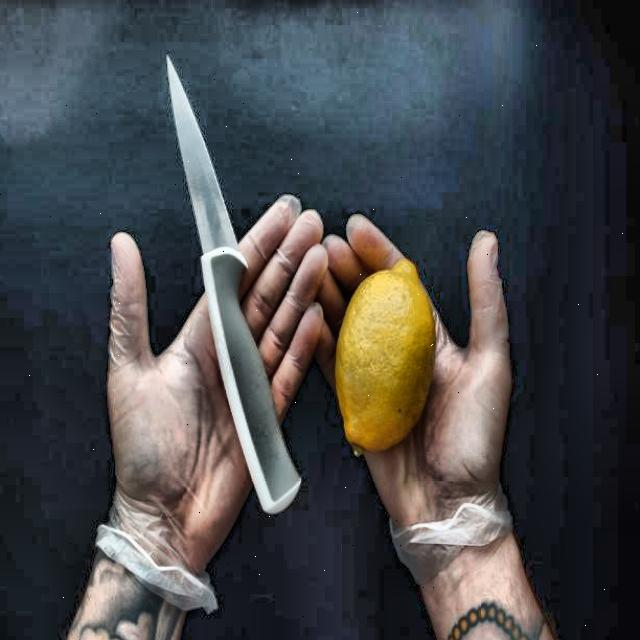knife: (160, 43, 308, 525)
